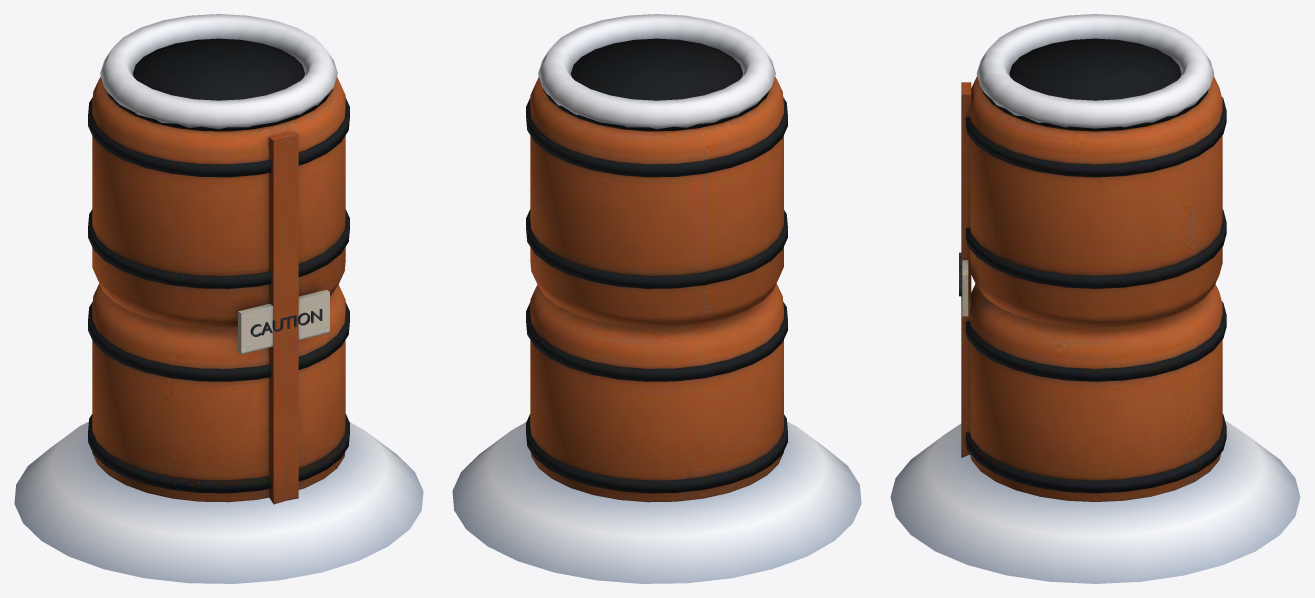
The model's file is pole_pad.glb.
The picture shows the model from 3 angles, left to right: view 1: azimuth 30°, elevation 25°; view 2: azimuth 150°, elevation 25°; view 3: azimuth 270°, elevation 25°; orthographic projection.
Parts seen in each view (by area): view 1: pole_pad, pole_pad_snow, pole_pad_flat; view 2: pole_pad, pole_pad_snow; view 3: pole_pad, pole_pad_snow.
Part boxes in pixels (x1,y1,x2,y2): pole_pad: [88, 38, 349, 504]; pole_pad_snow: [14, 14, 423, 583]; pole_pad_flat: [250, 309, 322, 336]; pole_pad: [526, 38, 787, 502]; pole_pad_snow: [452, 14, 861, 583]; pole_pad: [961, 38, 1226, 501]; pole_pad_snow: [890, 14, 1300, 583].
Bounding box in the file's own units: 2 × 2.6 × 2.
3 materials, 1 textured.
